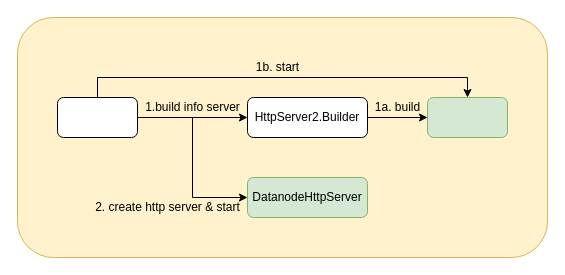
Image size: 565x275. Some labels were removed from this diagram. Here are the shapes that lost their labels. From the top down, the centre of each, then its label:
pixel 97 117: DataNode
pixel 467 117: HttpServer2
